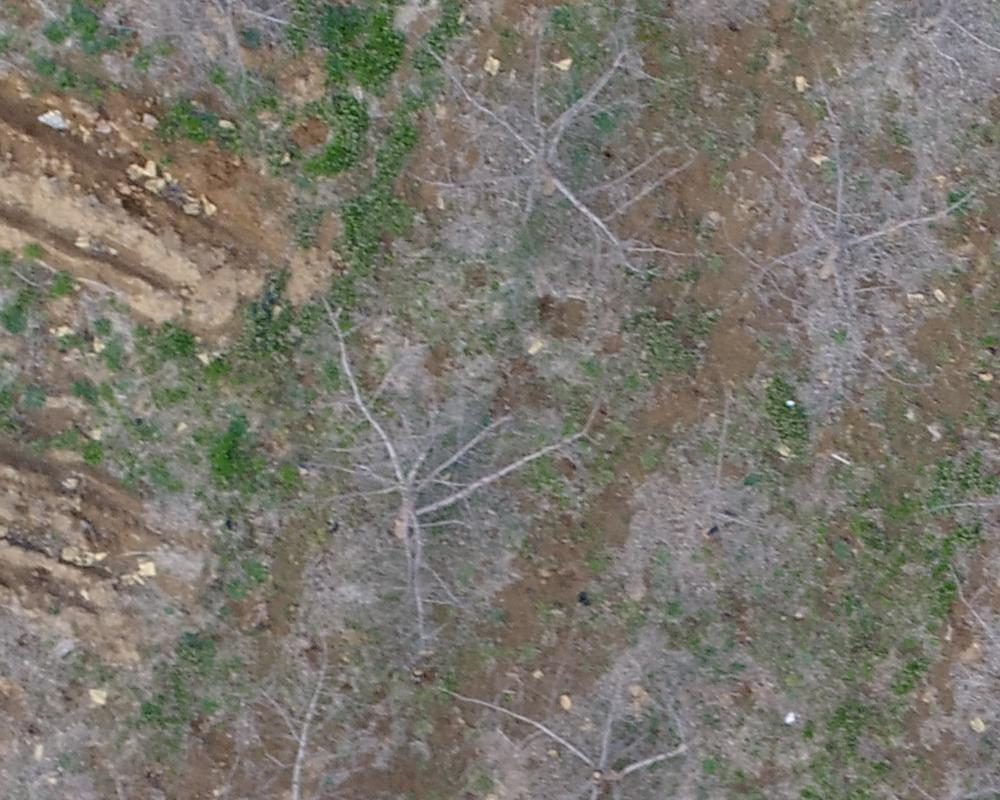apple: (297, 294, 602, 642), (410, 21, 701, 277), (723, 112, 988, 313), (447, 671, 737, 790), (157, 10, 367, 92)
